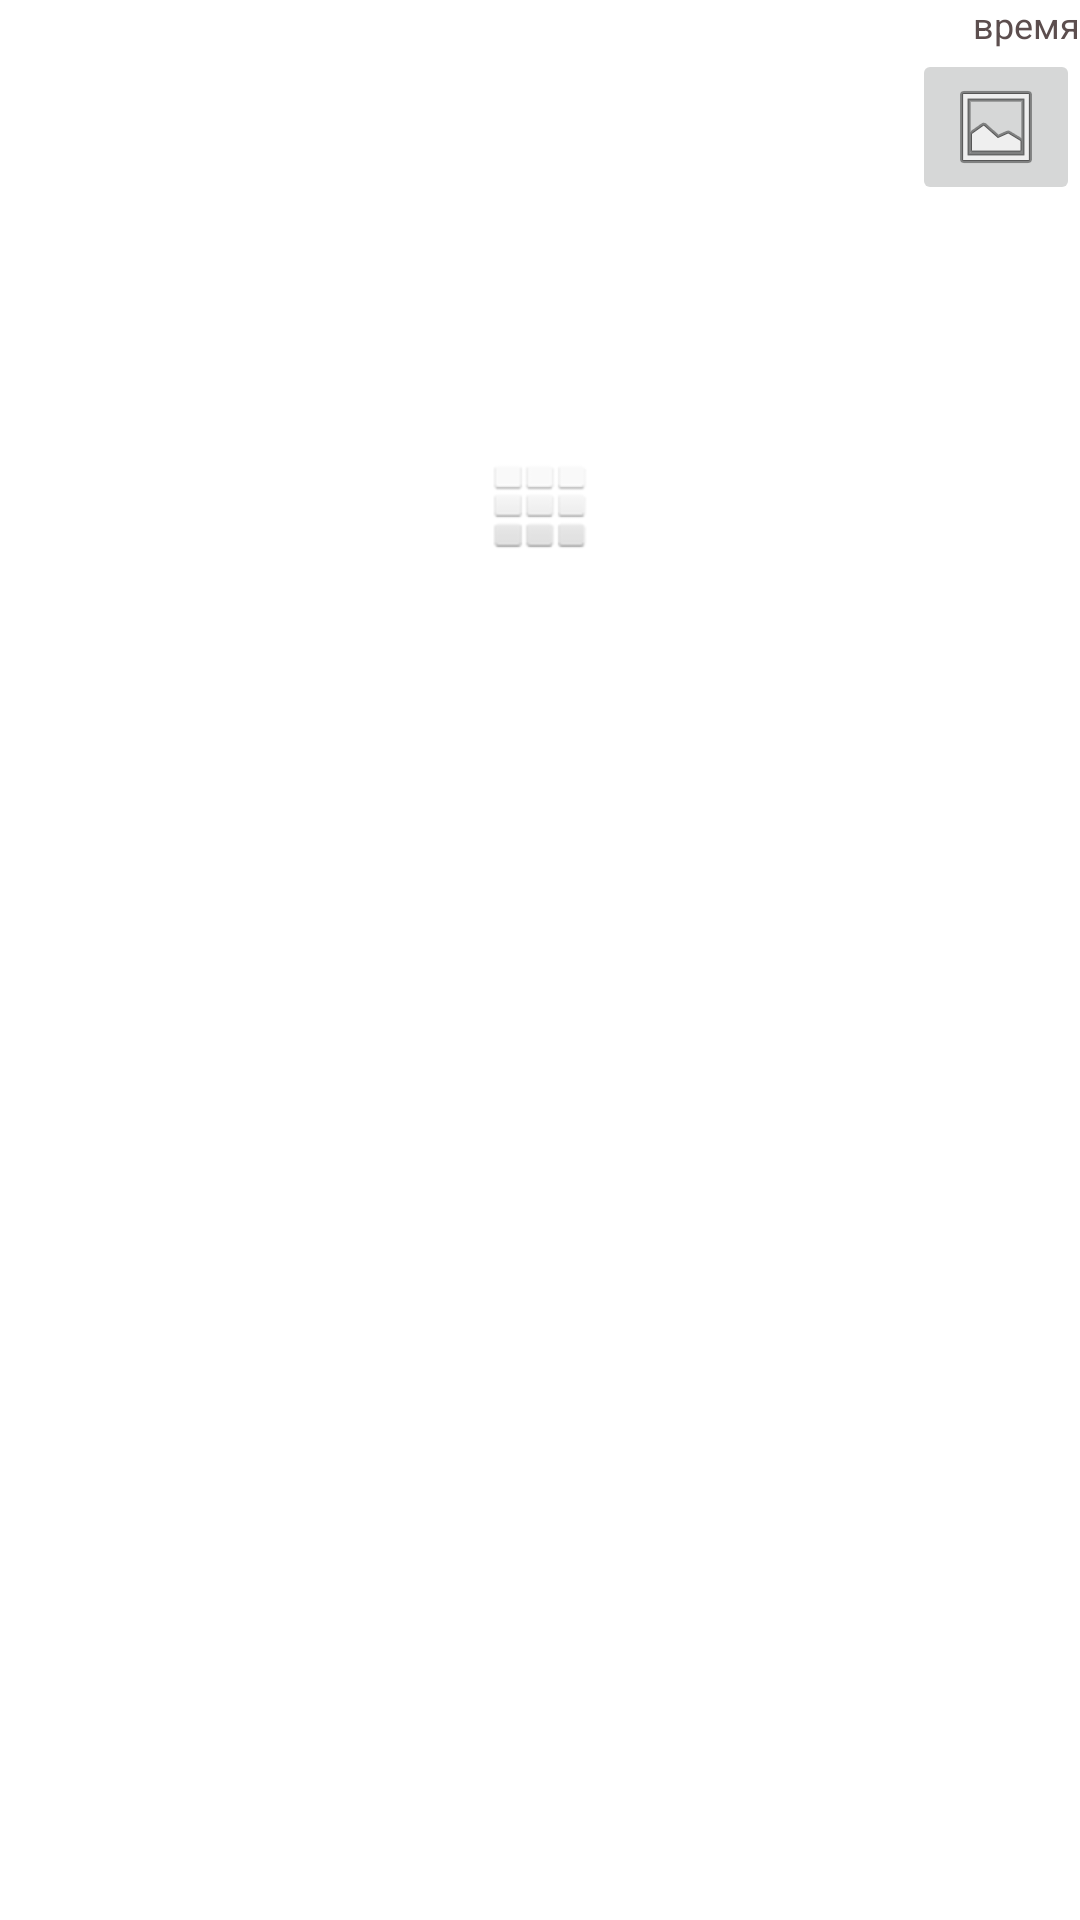

Where to tap for icons on this 1080×1920 app screen, as (x,y):
gallery: (996,127)
